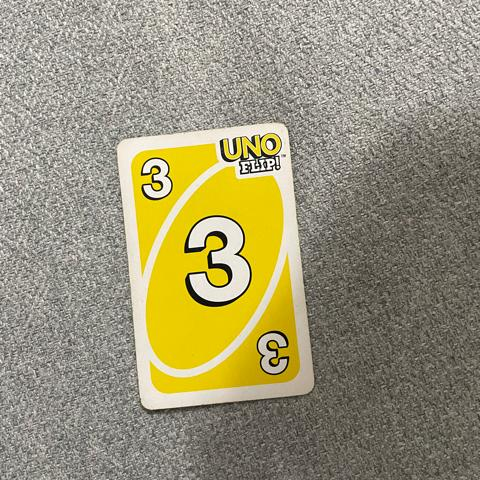lyellow-3: (129, 146, 187, 211)
